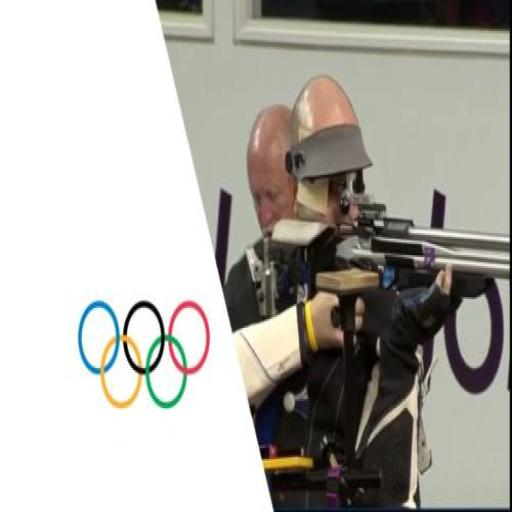shooting: (174, 32, 440, 502)
